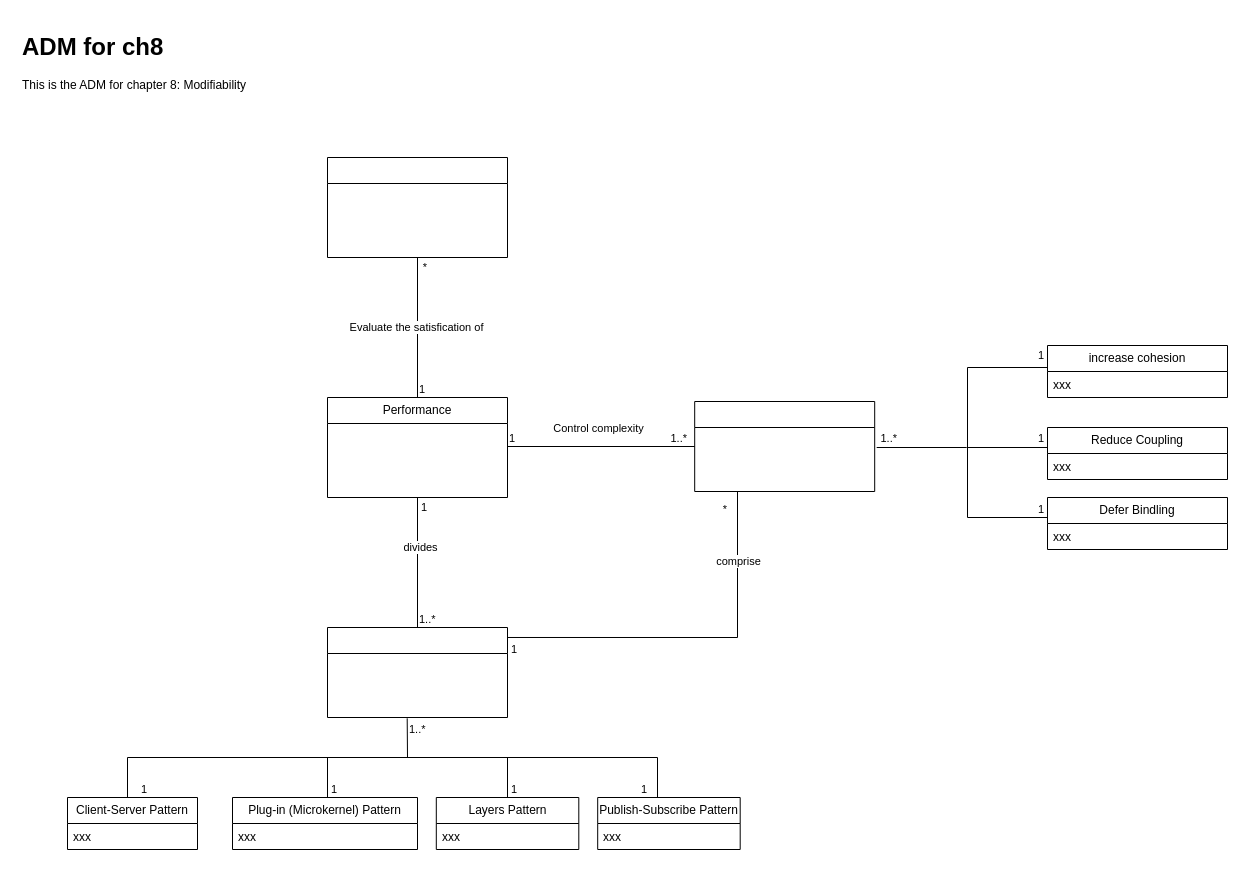
The diagram is 1245 pixels wide and 869 high, and some of its shapes have lost their labels. Here are the shapes that lost their labels. From the top down, the centre of each, then its label:
(417,207): Tactic-Based Questionnaries
(784,446): Performance Tactics
(417,672): Patterns
